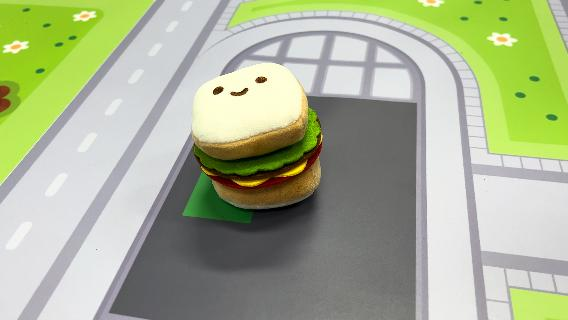sandwich: (190, 60, 326, 212)
